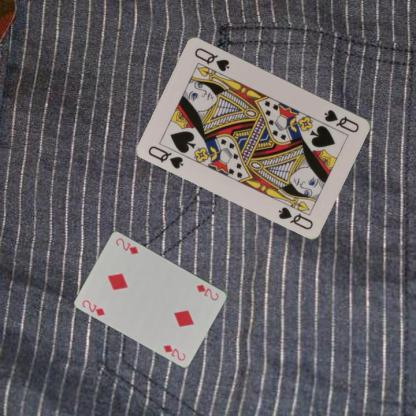2d: (194, 282, 221, 302), (80, 297, 106, 317)
Qs: (321, 106, 361, 134), (146, 143, 186, 170)
